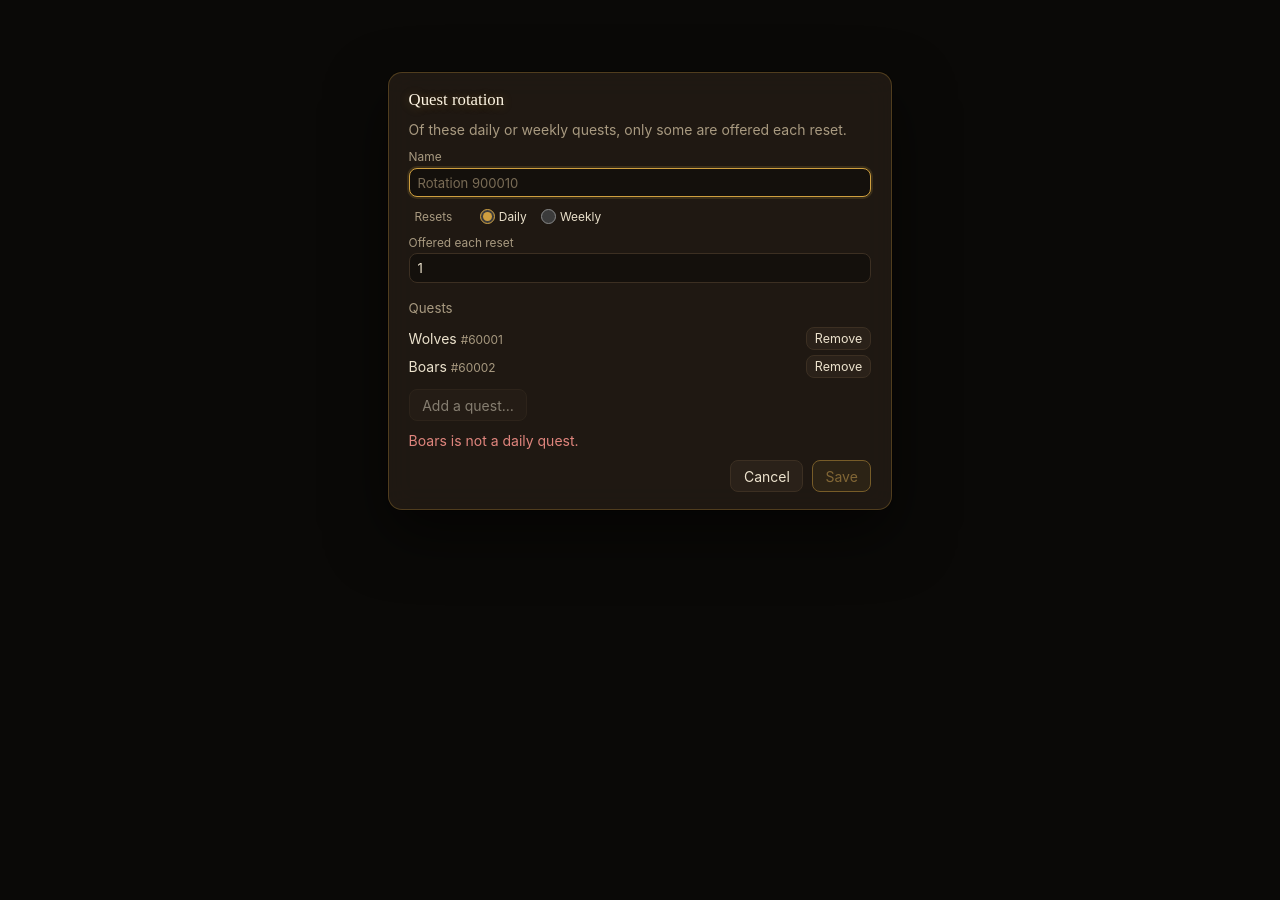
it: the rotation dialog › limits Offered each reset to the number of quests, and shows the reasons it cannot save
Click the button "Remove" in the row of "60002": (839, 367) [806, 355, 871, 378]
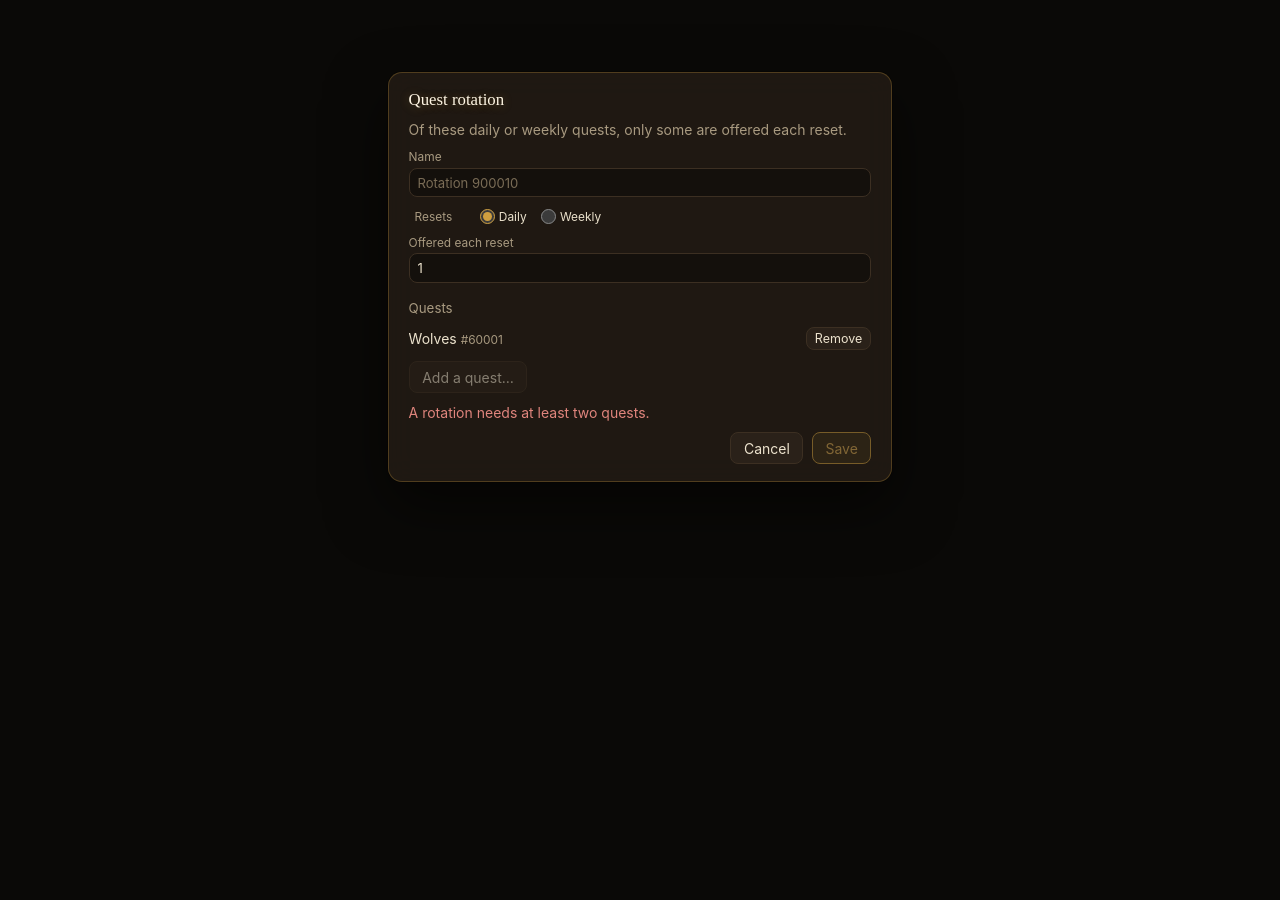
Expected: the button "Save" is disabled, [812, 432, 871, 464]
Expected: the text "A rotation needs at least two quests." is shown, [409, 404, 650, 421]
